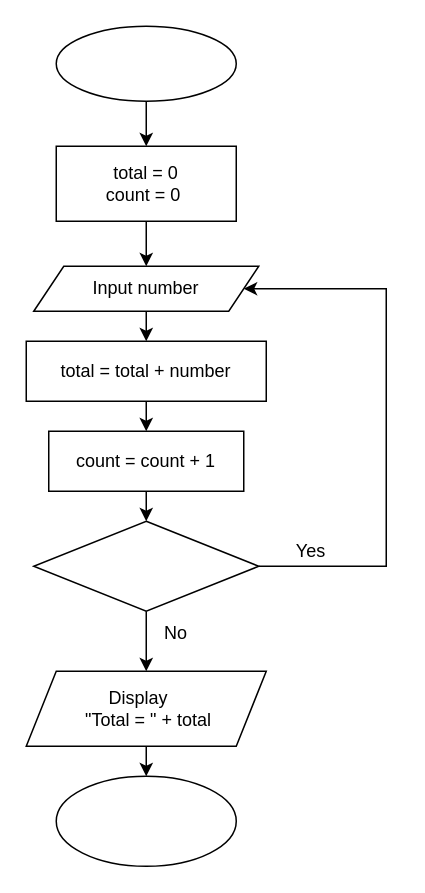
The diagram is 425 pixels wide and 893 high, and some of its shapes have lost their labels. Here are the shapes that lost their labels. From the top down, the centre of each, then its label:
At (145,63): "Start".
At (145,565): "count < 10?".
At (145,820): "End".
